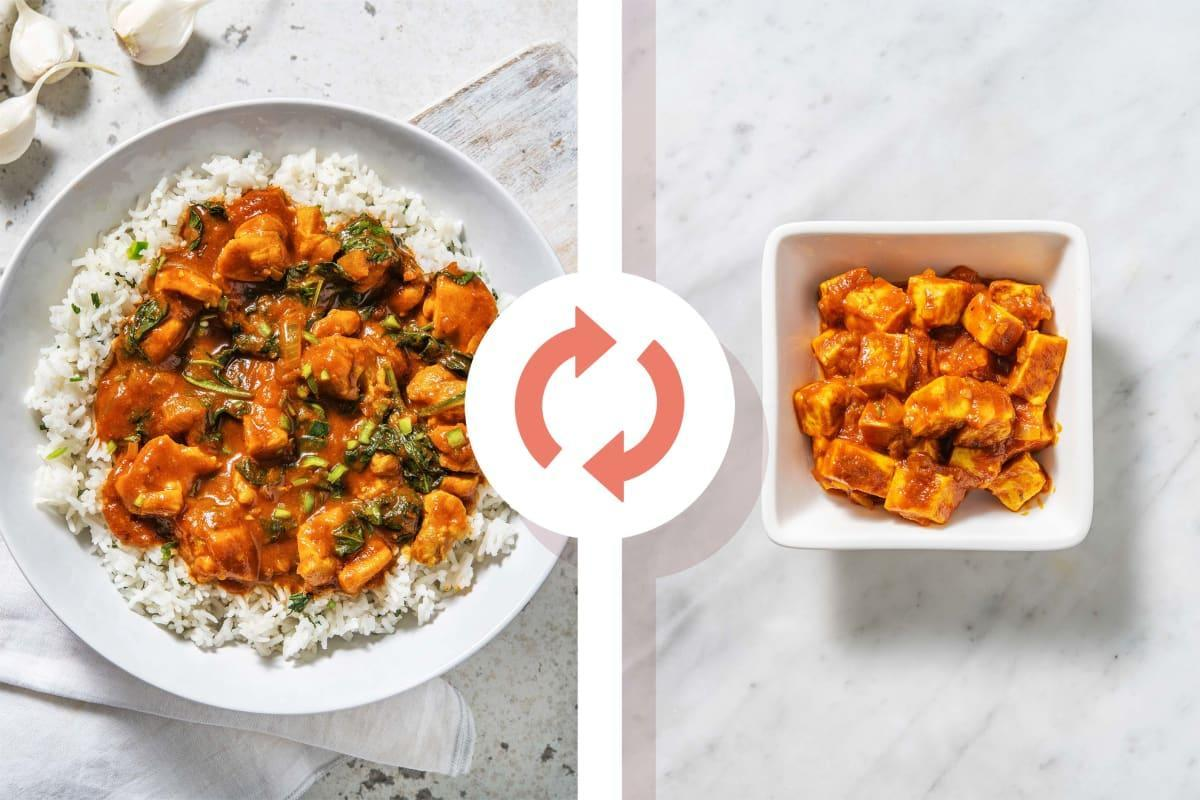paneer: (178, 281, 412, 502), (833, 298, 1035, 474)
rice: (81, 258, 119, 299)
